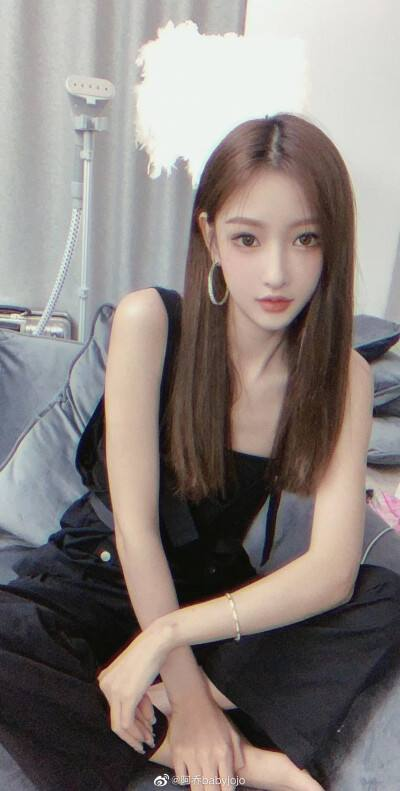person: (7, 68, 362, 542)
